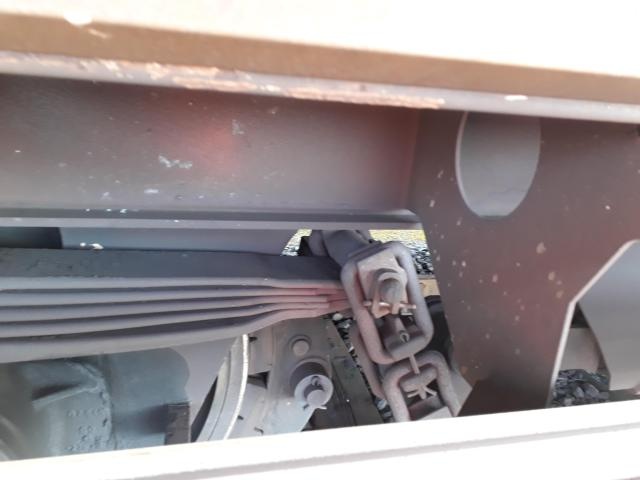blattfederww: (1, 261, 326, 354)
